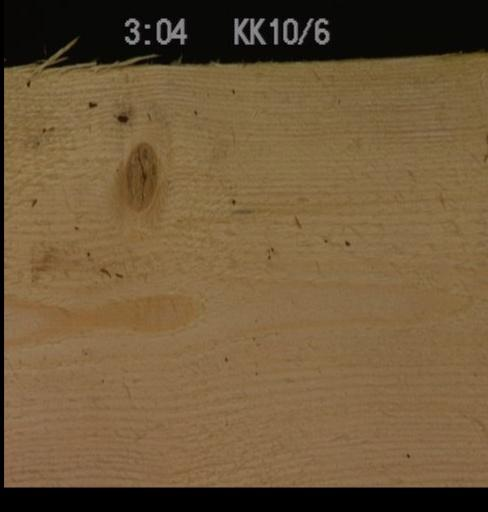sound_knot: (120, 140, 157, 212)
